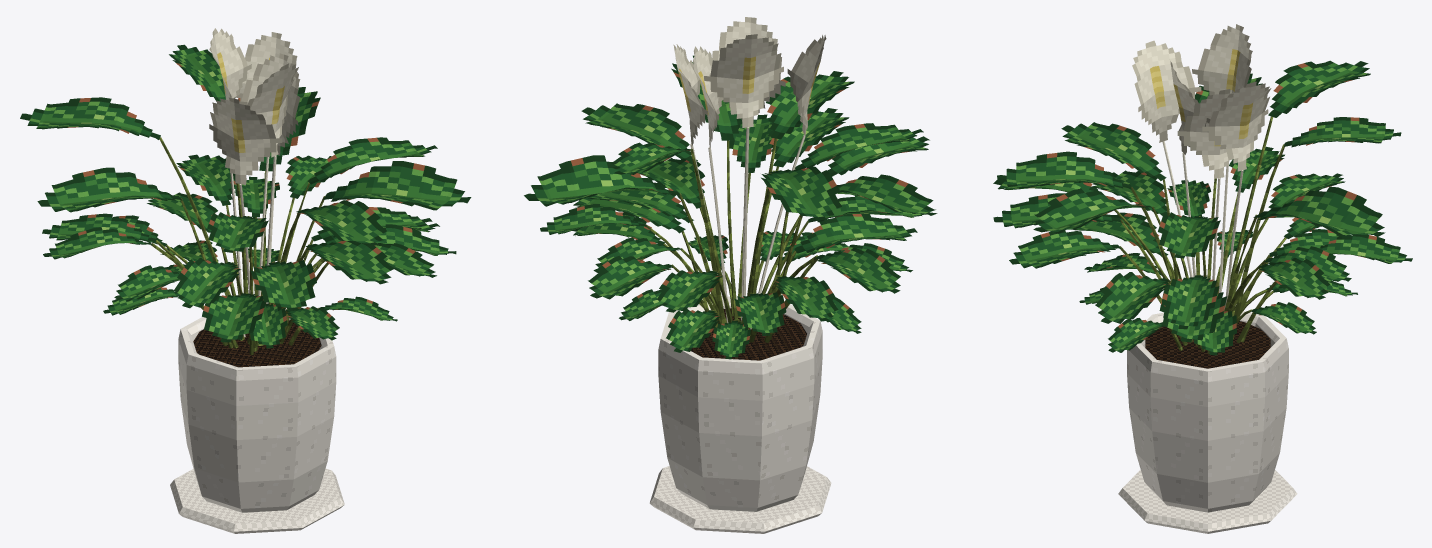
Rendered from PeaceLily.gltf.
3 renders of one model, left to right at view 1: azimuth 30°, elevation 25°; view 2: azimuth 150°, elevation 25°; view 3: azimuth 270°, elevation 25°, orthographic. The views are drawn at different scales.
Visible parts, largest first — view 1: Pot.005, Saucer.005, Leaf_006.004, Spathe_04, Leaf_031.003, Leaf_028.003, Soil.005, Leaf_029.003, Leaf_000.004, Leaf_010.004, Leaf_025.004, Leaf_024.004 (+24 smaller); view 2: Pot.005, Saucer.005, Spathe_02, Leaf_021.004, Leaf_028.003, Leaf_010.004, Leaf_025.004, Leaf_000.004, Leaf_011.004, Leaf_031.003, Leaf_013.003, Leaf_007.004 (+30 smaller); view 3: Pot.005, Saucer.005, Spathe_04, Leaf_021.004, Spathe_00, Soil.005, Leaf_000.004, Spathe_02, Leaf_028.003, Leaf_011.004, Leaf_006.004, Leaf_022.004 (+24 smaller).
Part boxes in pixels (bbox=[...]): Pot.005: bbox=[178, 308, 336, 512]; Saucer.005: bbox=[170, 468, 344, 533]; Leaf_006.004: bbox=[323, 161, 471, 210]; Spathe_04: bbox=[209, 97, 282, 184]; Leaf_031.003: bbox=[37, 167, 182, 212]; Leaf_028.003: bbox=[20, 97, 160, 139]; Soil.005: bbox=[193, 320, 321, 367]; Leaf_029.003: bbox=[250, 260, 316, 311]; Leaf_000.004: bbox=[296, 200, 386, 246]; Leaf_010.004: bbox=[307, 137, 437, 184]; Leaf_025.004: bbox=[202, 293, 265, 342]; Leaf_024.004: bbox=[305, 241, 394, 284]; Pot.005: bbox=[658, 296, 822, 511]; Saucer.005: bbox=[649, 466, 831, 533]; Spathe_02: bbox=[704, 34, 783, 127]; Leaf_021.004: bbox=[524, 155, 681, 206]; Leaf_028.003: bbox=[761, 166, 841, 220]; Leaf_010.004: bbox=[581, 103, 697, 164]; Leaf_025.004: bbox=[794, 214, 917, 253]; Leaf_000.004: bbox=[766, 71, 854, 139]; Leaf_011.004: bbox=[795, 123, 923, 169]; Leaf_031.003: bbox=[837, 174, 937, 215]; Leaf_013.003: bbox=[814, 247, 900, 293]; Leaf_007.004: bbox=[588, 255, 674, 299]; Pot.005: bbox=[1127, 311, 1288, 512]; Saucer.005: bbox=[1118, 470, 1297, 533]; Spathe_04: bbox=[1132, 40, 1201, 142]; Leaf_021.004: bbox=[1253, 186, 1385, 236]; Spathe_00: bbox=[1202, 81, 1271, 171]; Soil.005: bbox=[1145, 321, 1270, 368]; Leaf_000.004: bbox=[997, 151, 1131, 189]; Spathe_02: bbox=[1192, 24, 1252, 95]; Leaf_028.003: bbox=[1268, 60, 1370, 117]; Leaf_011.004: bbox=[1061, 122, 1166, 180]; Leaf_006.004: bbox=[1033, 188, 1154, 233]; Leaf_022.004: bbox=[1009, 230, 1120, 268].
Bounding box in the file's own units: 3.97 × 4.63 × 3.96.
Materials: 7 (7 with a texture image).
